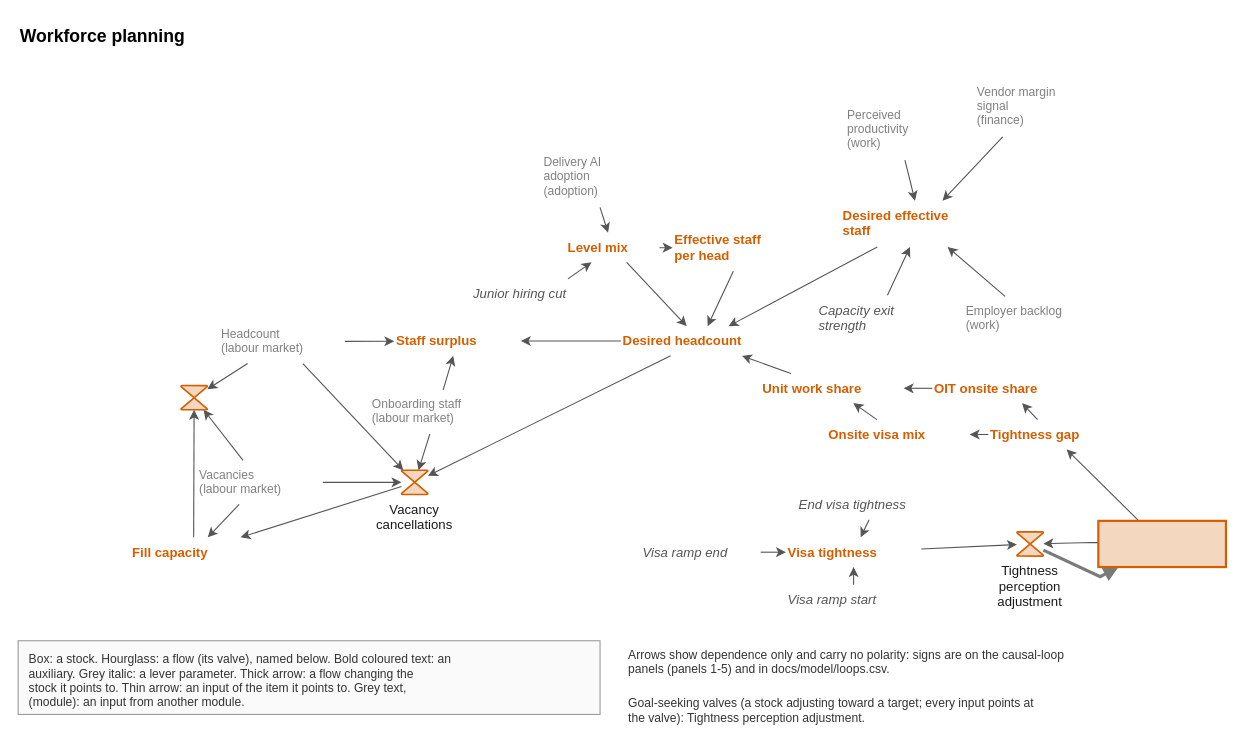
The diagram is 1244 pixels wide and 751 high, and some of its shapes have lost their labels. The shapes that lost their labels are listed below. From the top down, each one's centre as x and y in pixels, then its label:
At (x=194, y=397): "Promotions".
At (x=1161, y=543): "Perceived visa tightness".
